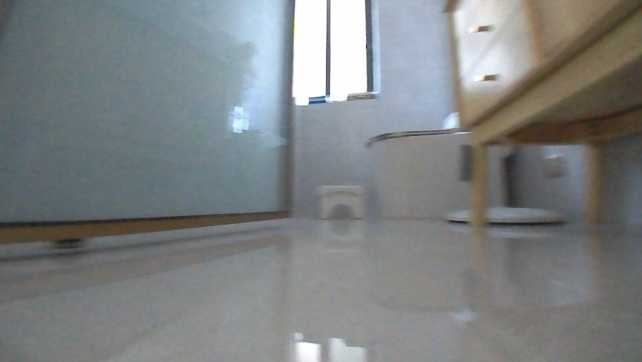toilet: (364, 109, 510, 218)
